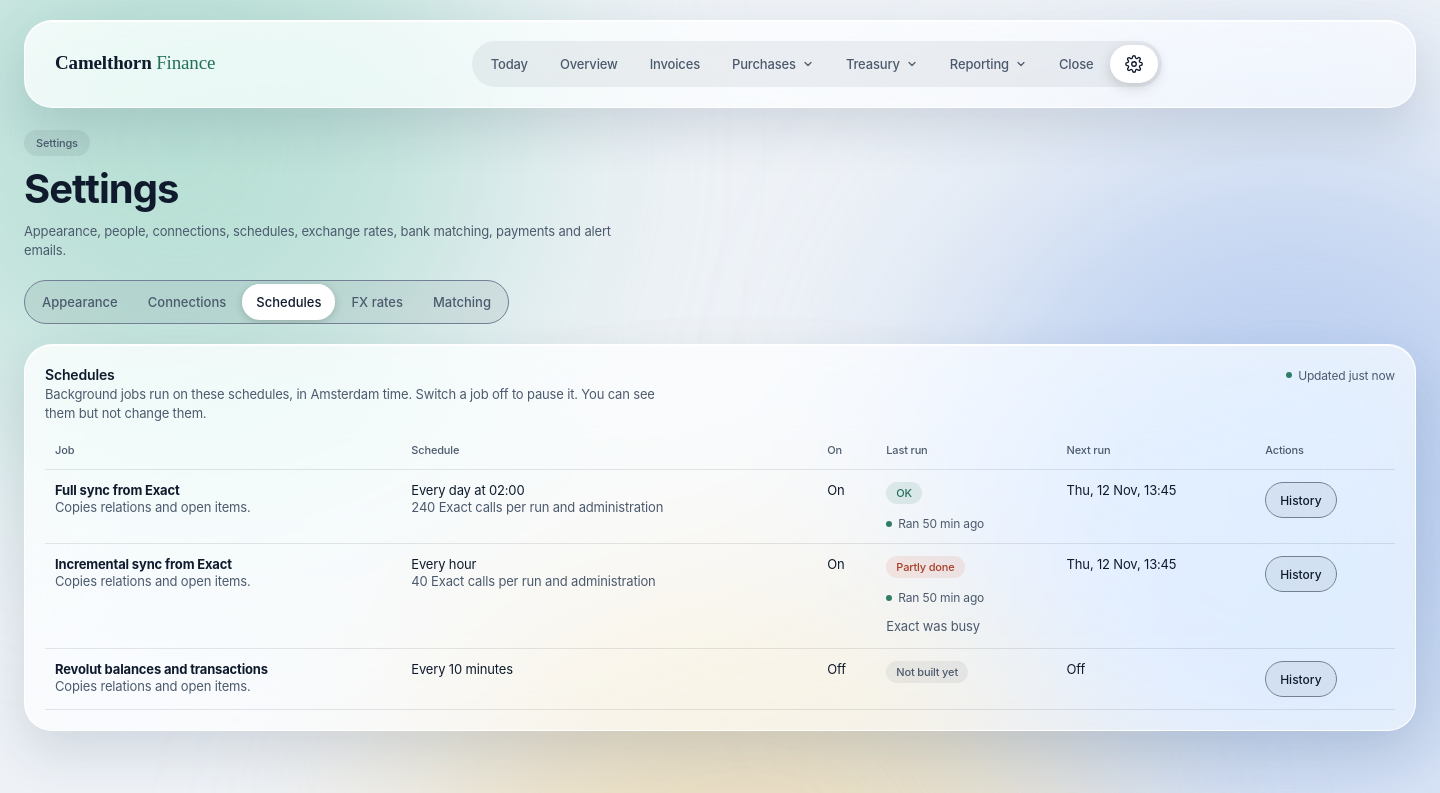
Scenario: Settings, Schedules › history › says so when there are no runs, and when loading fails
This screenshot has width=1440, height=793.
Check: the text "Full sync from Exact" is shown, box [55,482,180,498]
Click the button with aria-label "History of Full sync from Exact": [1301, 500] box [1265,482,1337,518]
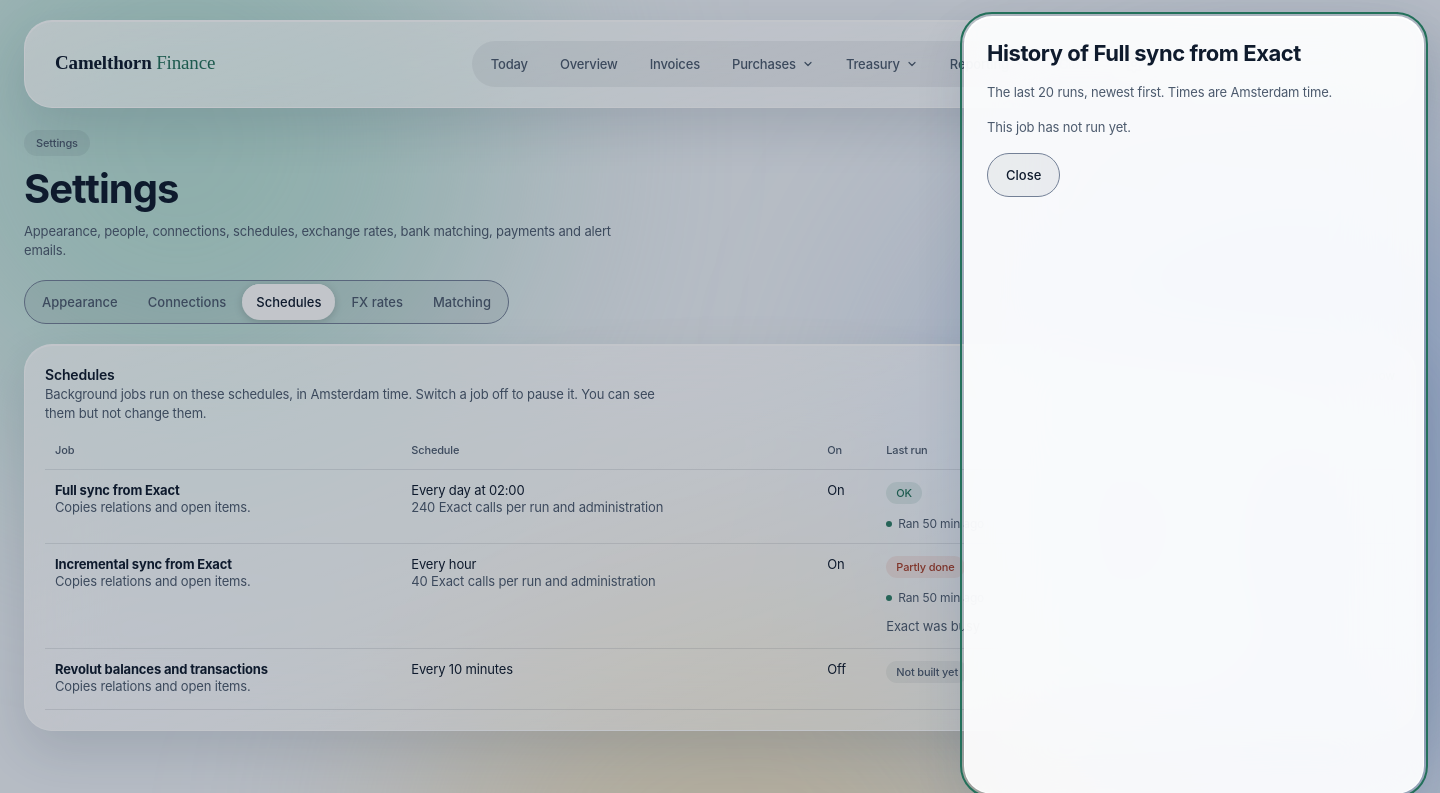
Check: the text "This job has not run yet." is shown, box [987,119,1131,135]
Click the button "Close": [1024, 175] box [987,153,1060,197]
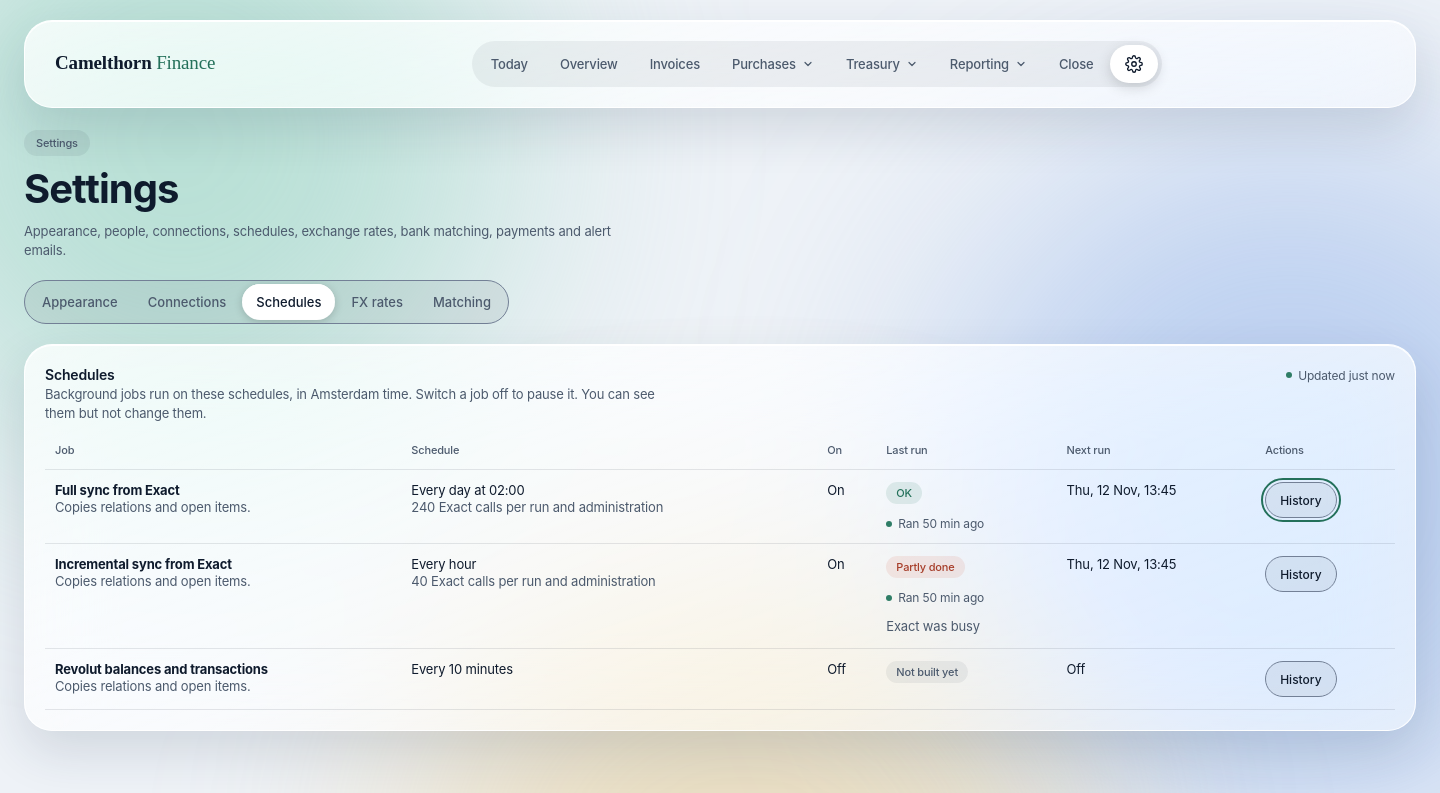
Click the button with aria-label "History of Incremental sync from Exact": [1301, 574] box [1265,556,1337,592]
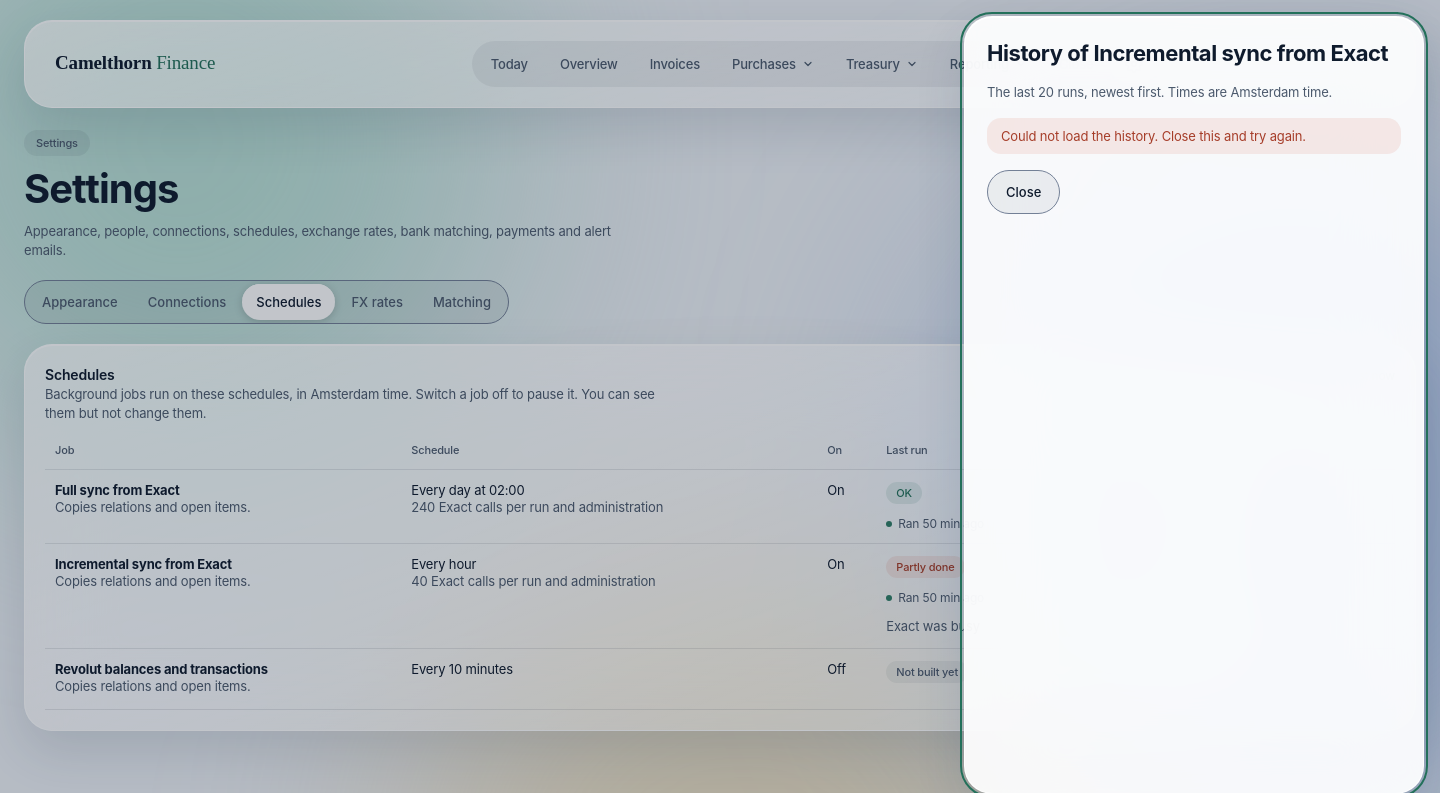
Check: the message shows "Could not load the history", box [1001,128,1306,144]
